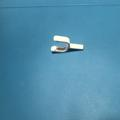u-shape: (50, 34, 84, 54)
